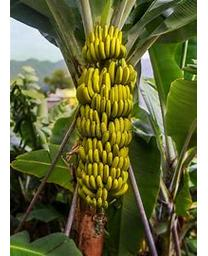banana: (74, 43, 136, 210)
